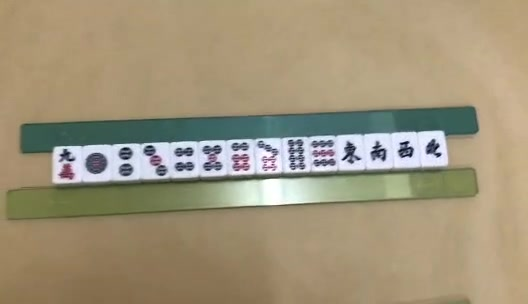1p: (85, 152, 108, 174)
1z: (342, 141, 360, 164)
2p: (119, 148, 133, 176)
2z: (371, 140, 387, 162)
3p: (144, 145, 168, 178)
3z: (397, 141, 414, 158)
4p: (176, 147, 194, 172)
4z: (425, 139, 442, 157)
5p: (204, 146, 222, 172)
6p: (233, 142, 250, 171)
7p: (256, 141, 278, 171)
8p: (289, 140, 304, 169)
9m: (57, 149, 77, 180)
9p: (313, 140, 335, 167)
